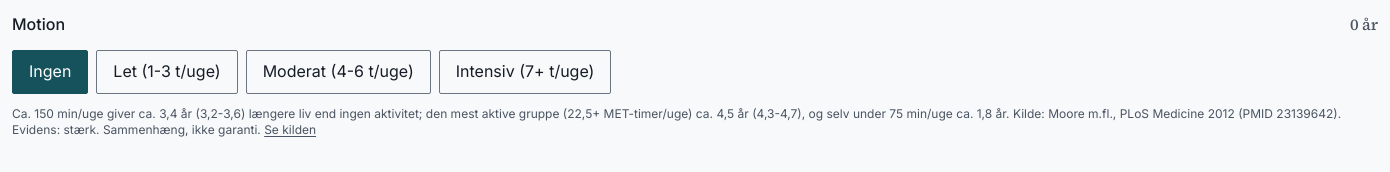
Test case: LifestyleFactor › selects on click and shows the signed years
Click the radio button labelled "Intensiv (7+ t/uge)". click: (525, 72)
box: left=439, top=50, right=612, bottom=94
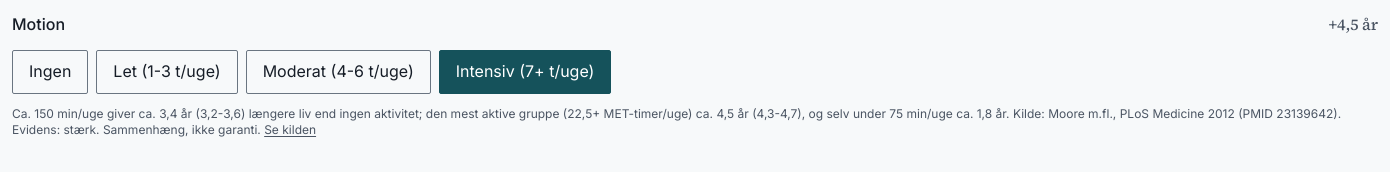
Expected: the text "+4,5 år" is shown, left=1328, top=12, right=1378, bottom=36
